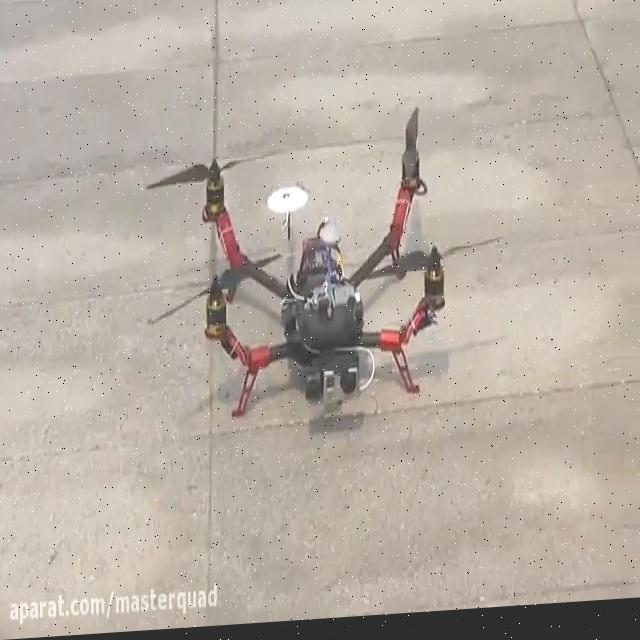drone: (145, 103, 506, 432)
